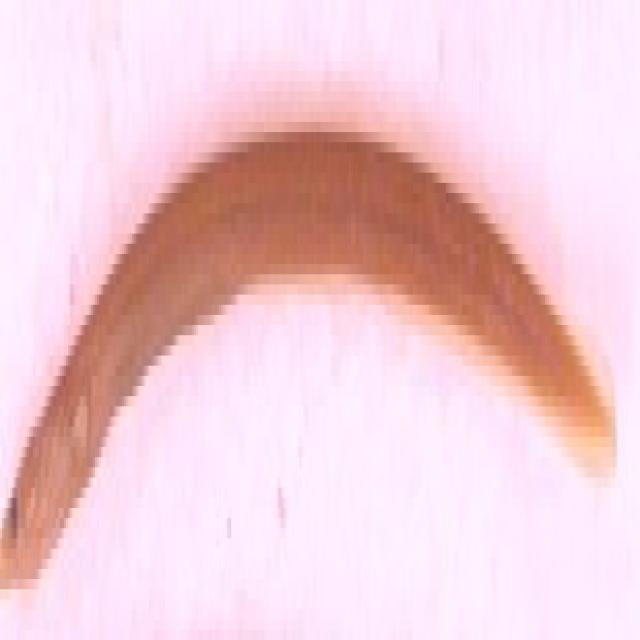Freshwater-Eel: (3, 53, 622, 587)
